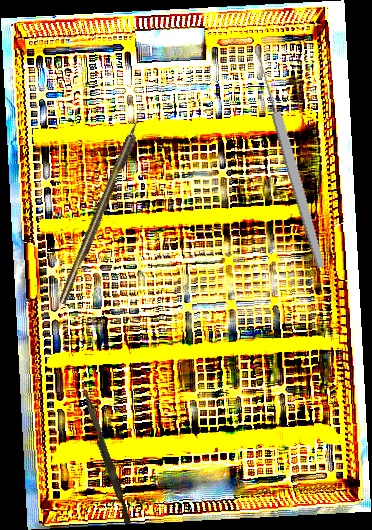Hook Surgical: (56, 104, 150, 306)
Pusher: (76, 385, 135, 525)
Surgical Spoon: (251, 45, 328, 269)
